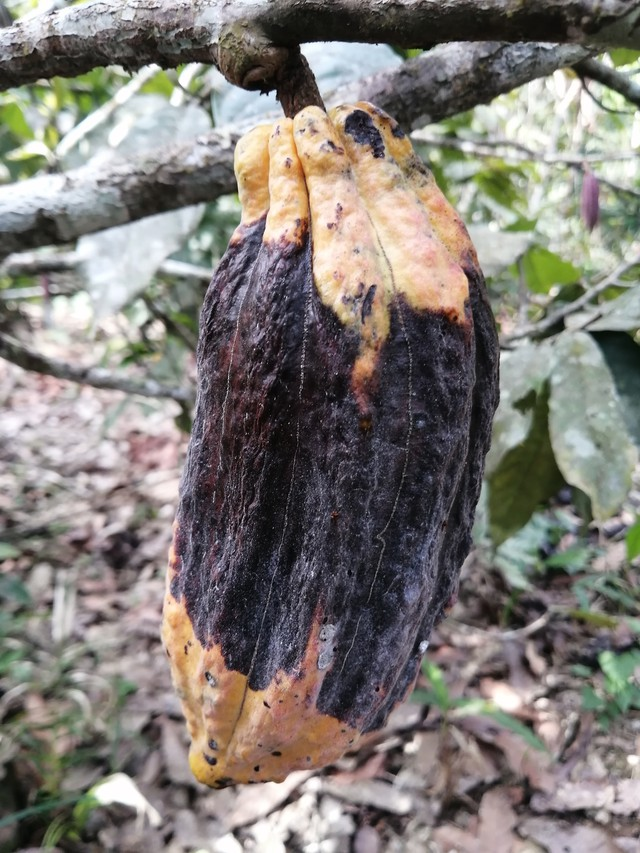phytophthora palmivora: (136, 93, 521, 805)
